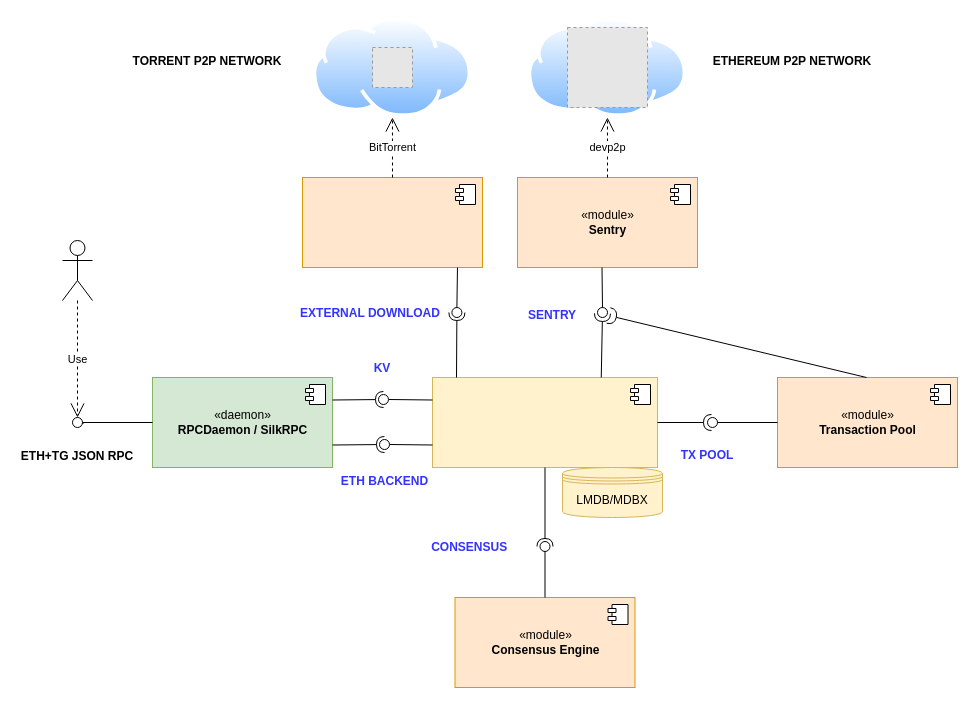
Some shapes in this 975 by 705 pixel diagram are drawn without their labels. Grey dashed boxes stand in for pictures. Here are the shapes that lost their labels. From the top down, the centre of each, then its label:
At point (392, 222): "«module» Downloader".
At point (77, 270): "dApp".
At point (545, 422): "«core» TG / Silkworm".
